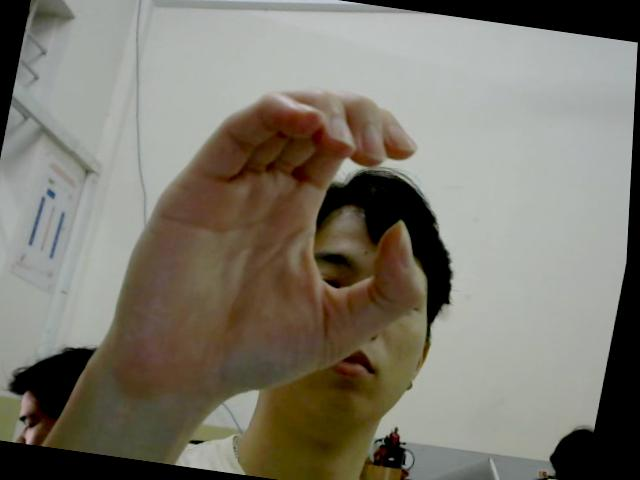C: (105, 62, 465, 426)
